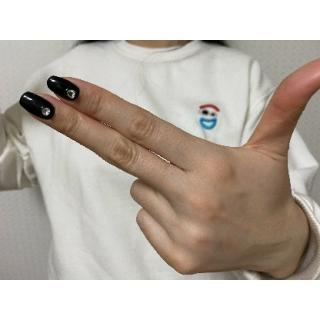GHAYN: (17, 53, 320, 278)
